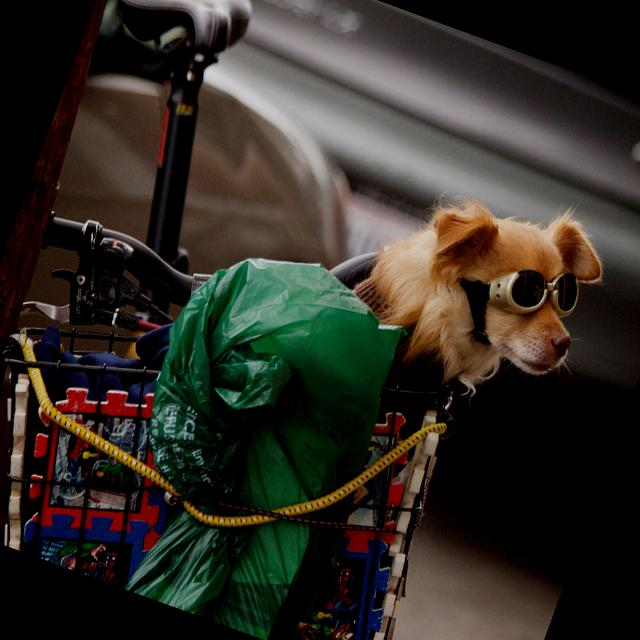Vehicle: (30, 0, 640, 408)
